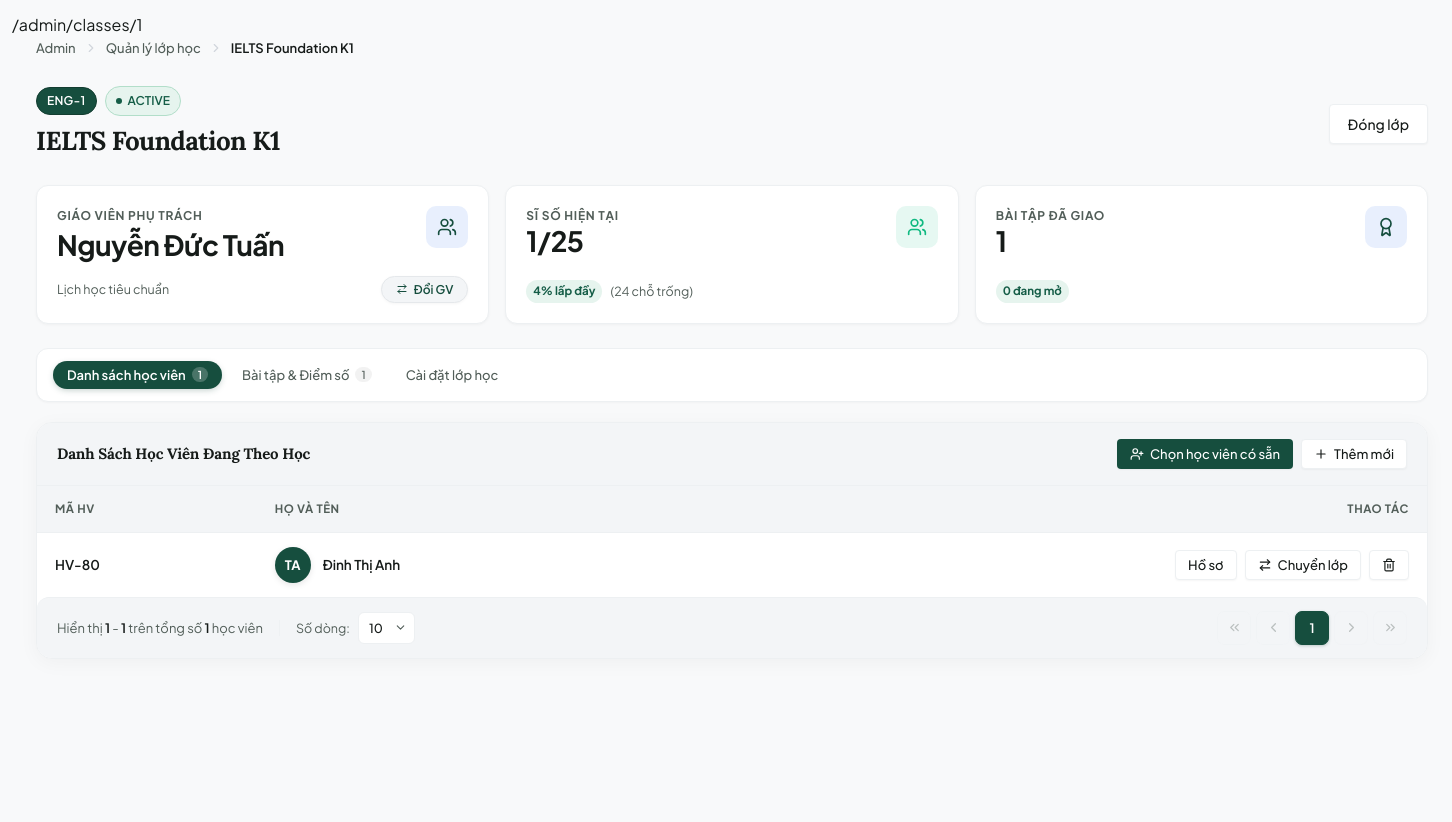
Test: loads the exact numeric class and assignment table for ID 1
Expected: the heading "IELTS Foundation K1" is shown, [36, 120, 280, 161]
Click the button "Bài tập & Điểm số 1" at (307, 374), box [228, 360, 386, 388]
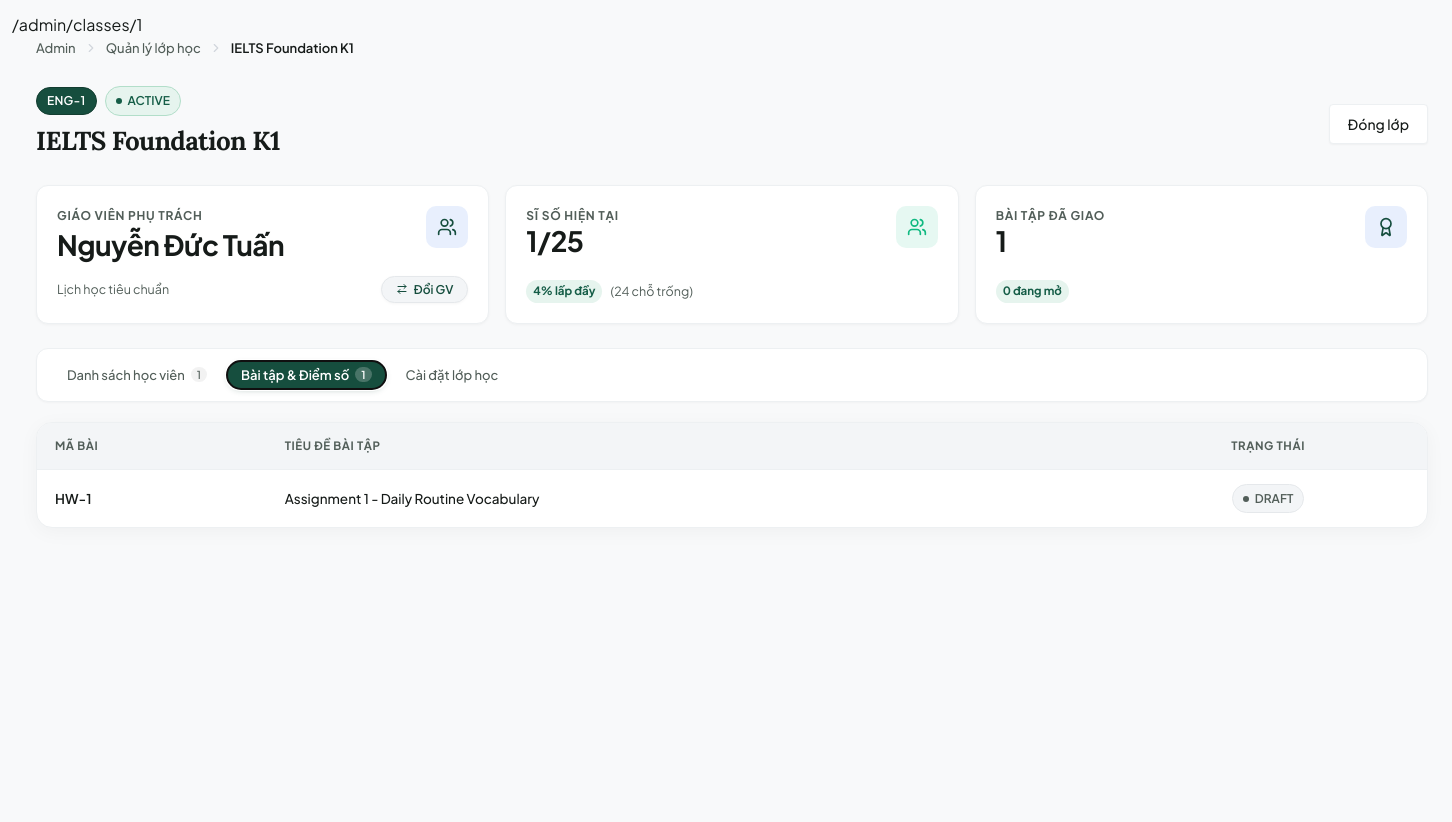
Result: the text "Assignment 1 - Daily Routine Vocabulary" is shown at [267, 469, 1109, 527]
